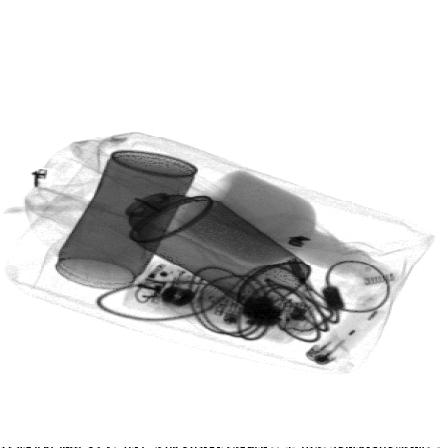Lighter: (306, 300, 386, 367)
Sprayer: (70, 154, 312, 312)
